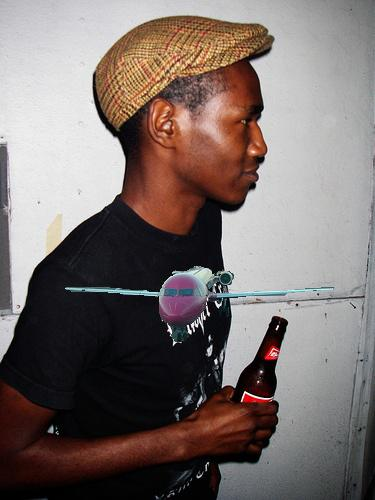tampered: (66, 267, 334, 342)
